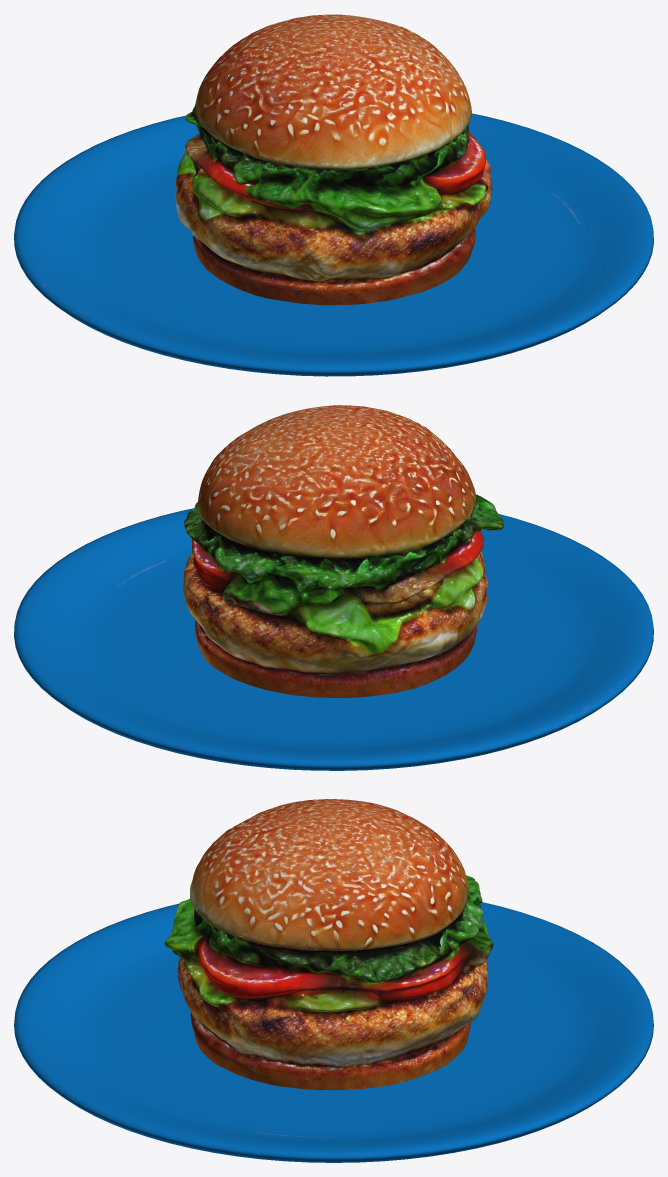
File: modelo1.glb
The picture shows the model from 3 angles, top to bottom: view 1: azimuth 30°, elevation 25°; view 2: azimuth 150°, elevation 25°; view 3: azimuth 270°, elevation 25°; orthographic projection.
Parts seen in each view (by area): view 1: Object_2; view 2: Object_2; view 3: Object_2.
Part boxes in pixels (x1=…): Object_2: x1=14, y1=14, x2=653, y2=376; Object_2: x1=14, y1=405, x2=653, y2=770; Object_2: x1=14, y1=799, x2=653, y2=1162.
Bounding box in the file's own units: 2.64 × 1.15 × 2.64.
Materials: 2 (2 with a texture image).
